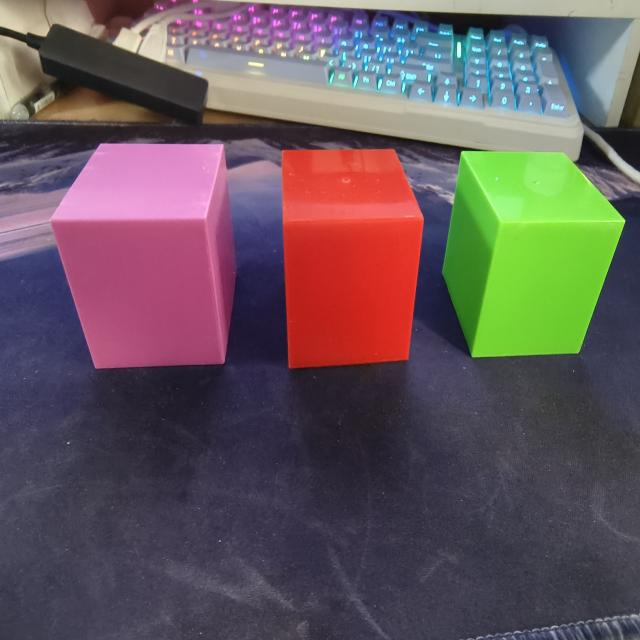green: (442, 151, 625, 361)
pink: (50, 141, 237, 372)
red: (280, 148, 424, 372)
